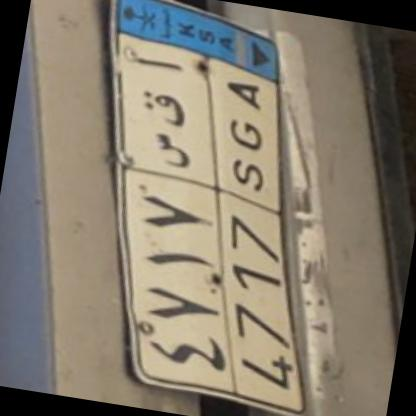english: (176, 60, 343, 416)
